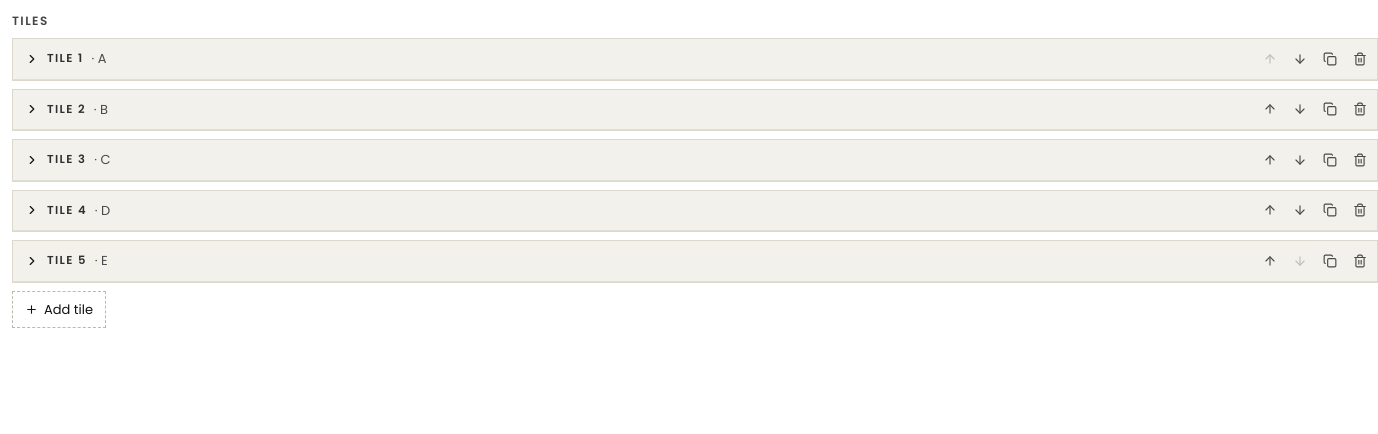
Test: SchemaForm › long lists start folded and open when their strip is clicked
Click the button "Tile 5 · E": x=32, y=261 left=13, top=241, right=1253, bottom=280
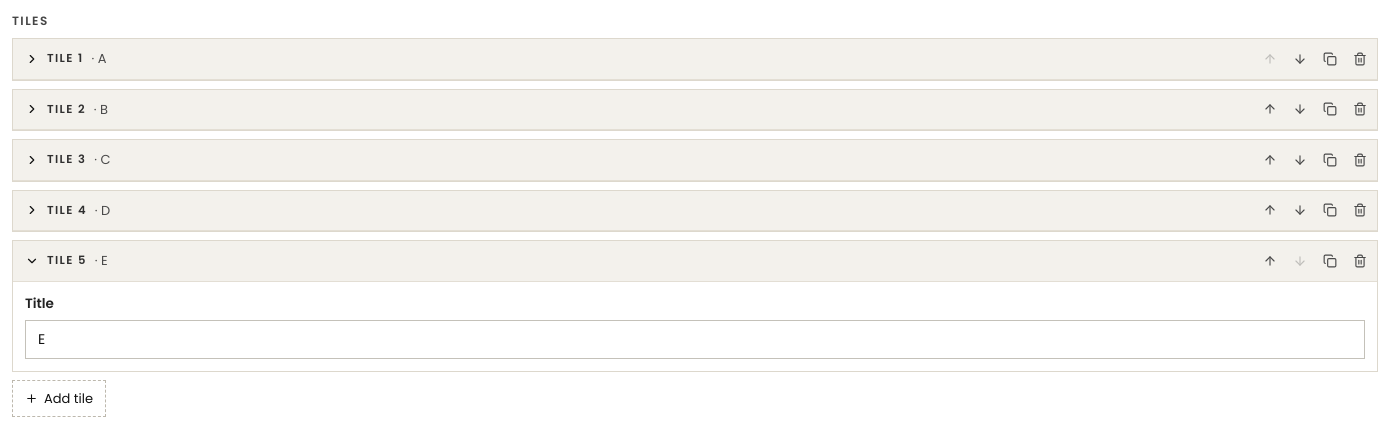
Expected: the field showing "E" is shown, left=25, top=320, right=1365, bottom=359
